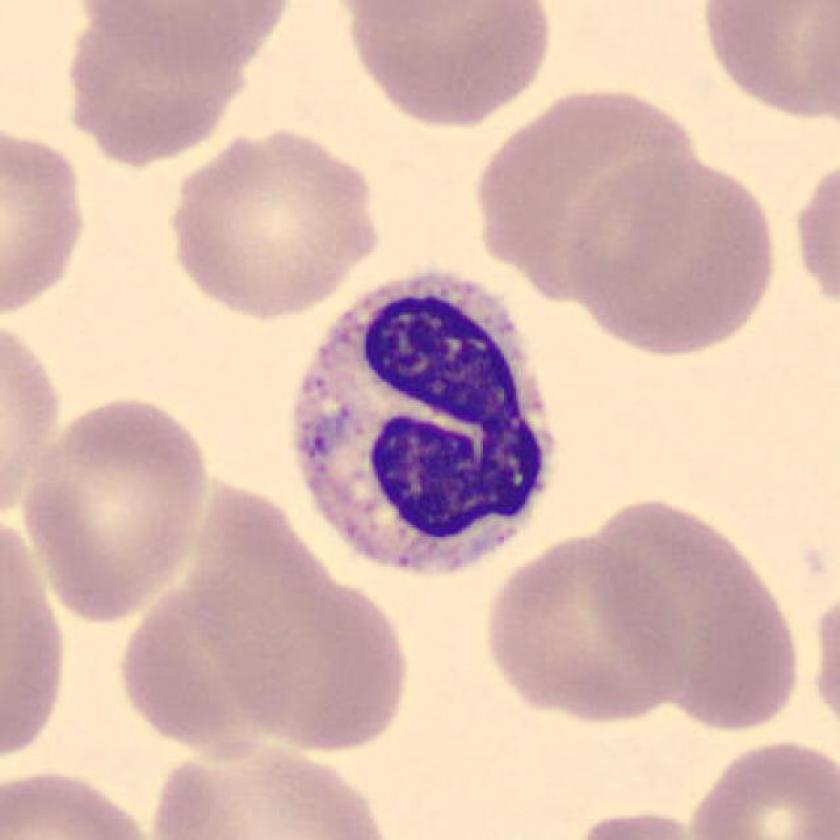neutrophil: (294, 271, 555, 572)
